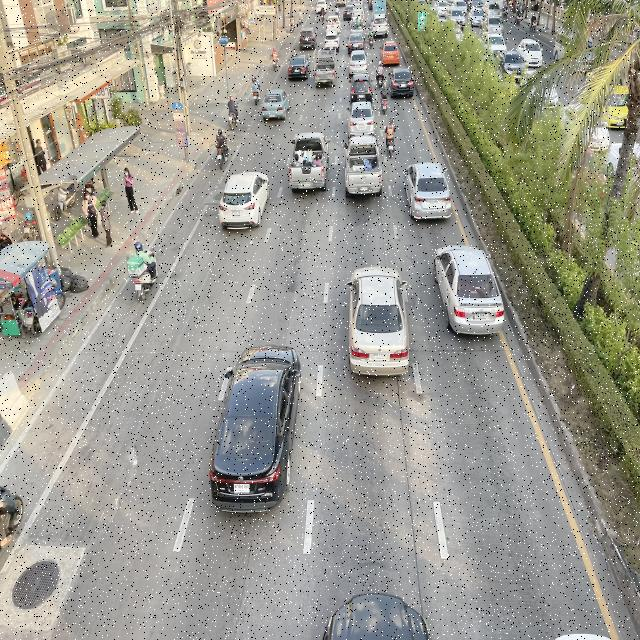bike: (118, 231, 167, 306), (213, 126, 232, 170), (223, 94, 242, 134), (383, 117, 397, 160), (247, 73, 263, 109), (377, 81, 391, 116), (268, 47, 282, 76), (374, 57, 386, 89)
car: (204, 342, 306, 527), (340, 262, 420, 399), (424, 238, 518, 346), (212, 164, 273, 239), (398, 161, 460, 228), (310, 47, 340, 92), (261, 84, 291, 124), (515, 35, 548, 70), (344, 100, 376, 134), (388, 65, 416, 102), (345, 72, 375, 106), (286, 52, 312, 84), (377, 41, 404, 67), (345, 50, 371, 76)
truck: (282, 127, 334, 204), (337, 132, 386, 211)
